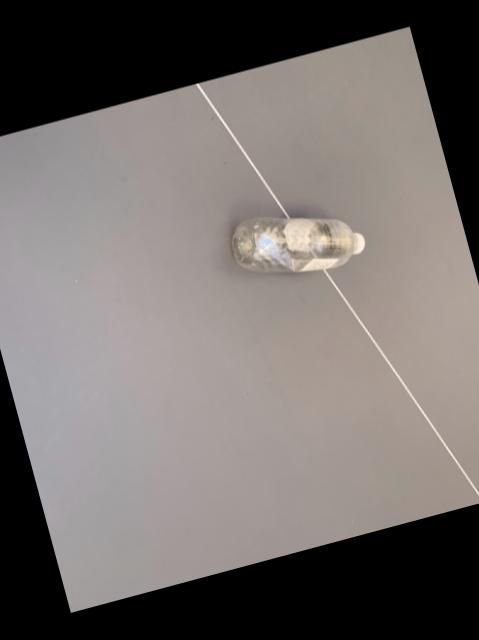plastic: (232, 218, 365, 273)
